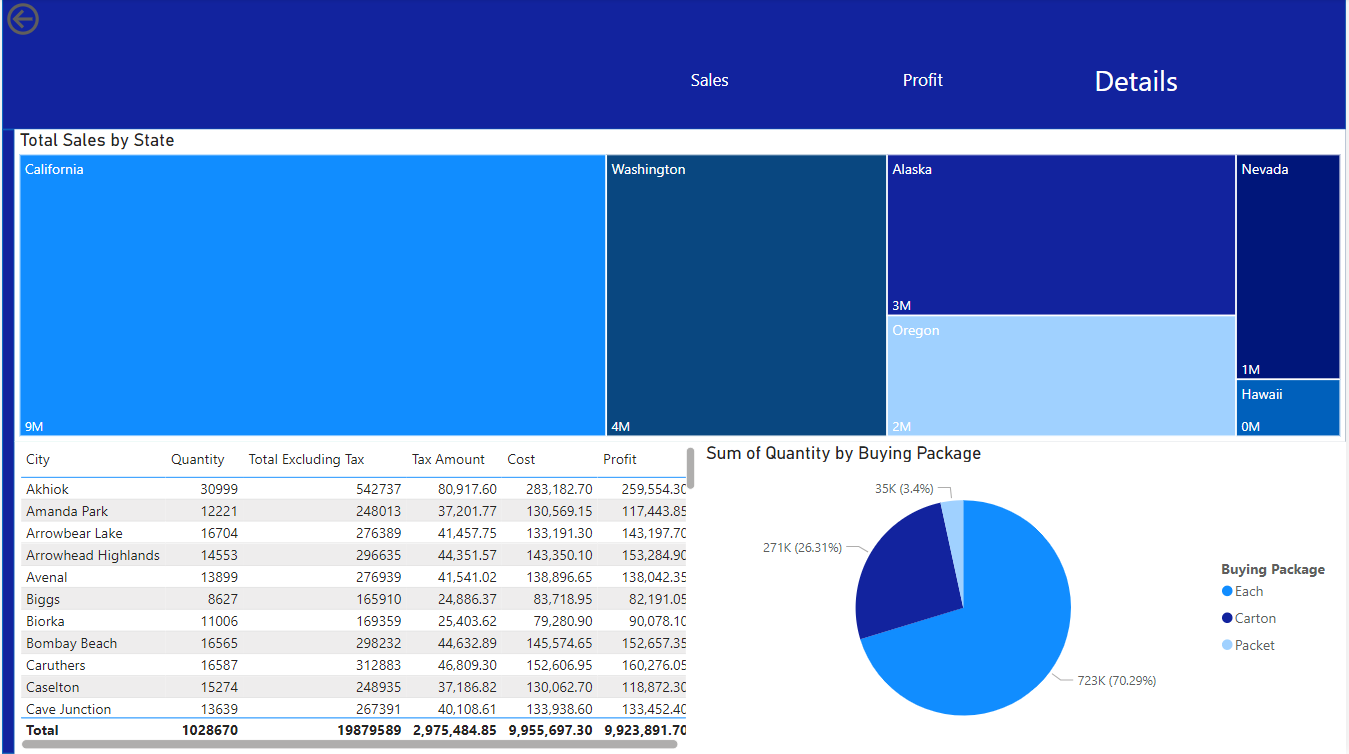

Layout of this report page (visuals, bound fields, positions):
{"tool":"powerbi","page":{"name":"Details","canvas":[1280,720],"ordinal":2},"visuals":[{"type":"shape","box":[0,0,1279.6,125.4],"z":0},{"type":"shape","box":[0,125.4,12.1,594.6],"z":1000},{"type":"actionButton","box":[0,0,100,40],"z":2000},{"type":"pageNavigator","box":[577.2,52.4,599.8,50],"z":3000},{"type":"treemap","title":"Total Sales by State","fields":{"Group":["DimCity.State Province"],"Values":["Sum(FactSale.Total Excluding Tax)"]},"box":[11.9,125,1267.4,297.5],"z":4000},{"type":"pieChart","fields":{"Y":["Sum(FactSale.Quantity)"],"Category":["DimStockItem.Buying Package"]},"box":[665.3,422.5,615.3,297.5],"z":5000},{"type":"tableEx","fields":{"Values":["DimCity.City","Sum(FactSale.Quantity)","Sum(FactSale.Total Excluding Tax)","Sum(FactSale.Tax Amount)","Sum(FactSale.Cost)","Sum(FactSale.Profit)"]},"box":[11.9,422.5,653.4,297.5],"z":6000}]}

Visuals, with their boxes in screenshot pixels (x1, y1, x2, y2), scaled from the page's 1280x720 canvas onto the 1349x754 screenshot:
shape: bbox=[0, 0, 1348, 131]
shape: bbox=[0, 131, 13, 753]
actionButton: bbox=[0, 0, 105, 42]
pageNavigator: bbox=[608, 55, 1240, 107]
"Total Sales by State" treemap: bbox=[13, 131, 1348, 442]
pieChart - Sum(FactSale.Quantity) x DimStockItem.Buying Package: bbox=[701, 442, 1348, 753]
tableEx - DimCity.City x Sum(FactSale.Quantity): bbox=[13, 442, 701, 753]
